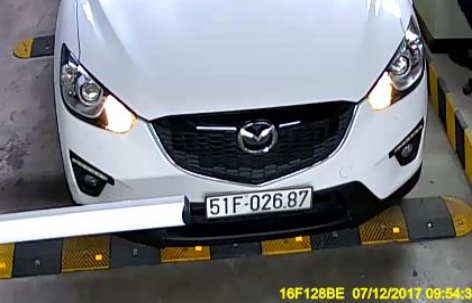plate: (201, 180, 320, 220)
